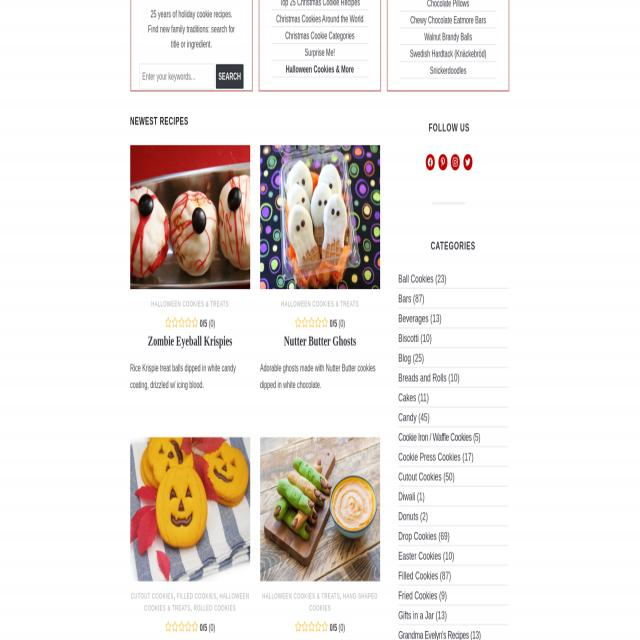button: (260, 437, 380, 583), (130, 438, 250, 584), (130, 145, 250, 289), (260, 145, 380, 289), (216, 64, 244, 89), (438, 154, 448, 170), (451, 154, 460, 170), (463, 154, 472, 170), (426, 154, 434, 170)
field: (140, 64, 214, 90)
